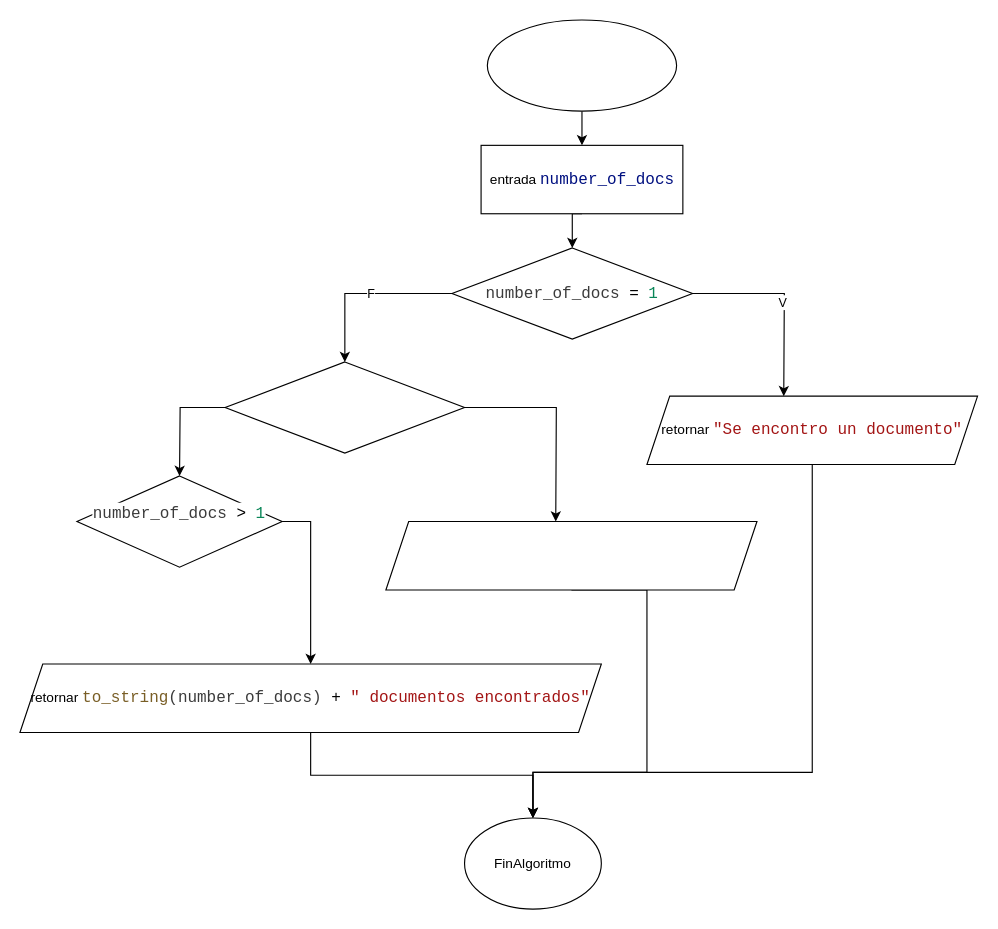
This 998x929 diagram has some shape labels left out. The centre of each missing label's shape, as x and y in pixels:
Algoritmo Practico 1 ejer 14: (581,65)
number_of_docs <= 0: (344,407)
retornar "No se encontraron documentos": (571,555)
